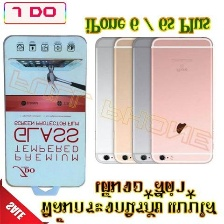book: (0, 32, 90, 193)
phone: (129, 36, 202, 164), (147, 36, 216, 166), (91, 35, 145, 165), (112, 36, 165, 165)
